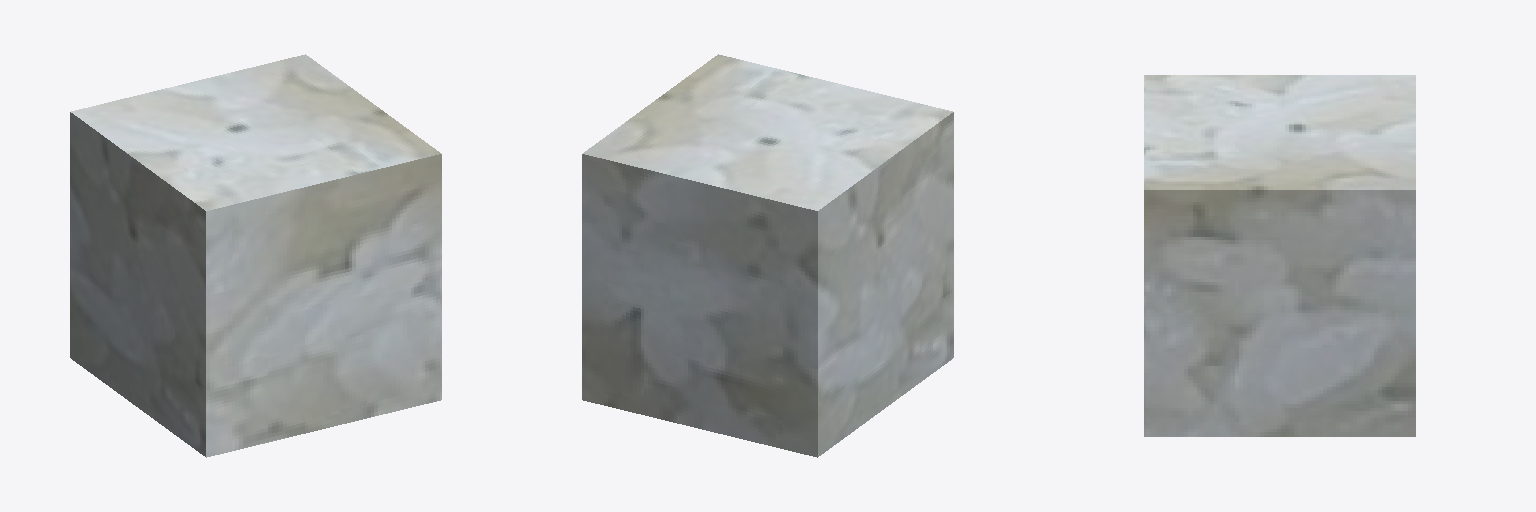
3 renders of one model, left to right at view 1: azimuth 30°, elevation 25°; view 2: azimuth 150°, elevation 25°; view 3: azimuth 270°, elevation 25°, orthographic.
Visible parts, largest first — view 1: Cube; view 2: Cube; view 3: Cube.
Part boxes in pixels (x1,y1,x2,y2): Cube: (70, 54, 441, 457); Cube: (582, 54, 953, 457); Cube: (1144, 75, 1415, 436).
Size of the model in its own units: 2 by 2 by 2.
1 materials, 1 textured.